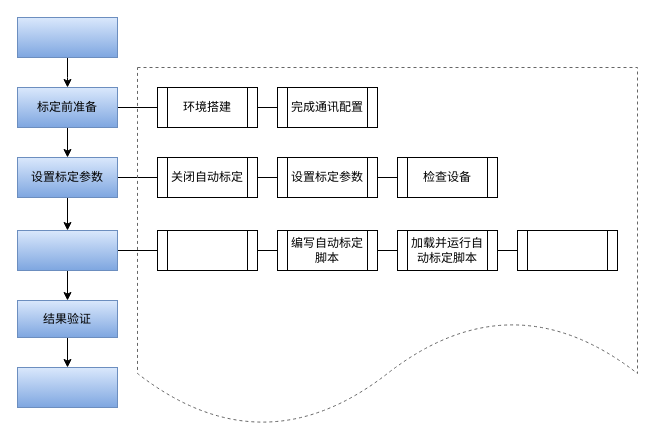
The diagram is 655 pixels wide and 445 high, and some of its shapes have lost their labels. The shapes that lost their labels are listed below. From the top down, each one's centre as x and y in pixels, then its label:
(67,37): 开始
(67,250): 进行标定 （自动标定）
(207,250): 开启自动标定
(567,250): 确定标定的图片和数据
(67,387): 结束
